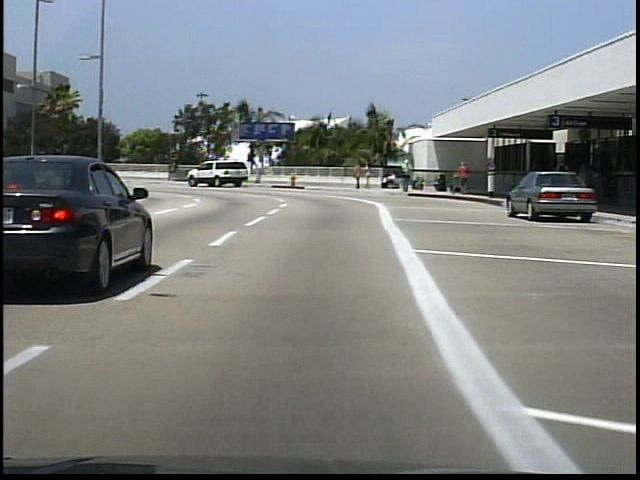person: (552, 153, 575, 209), (458, 160, 473, 194), (403, 158, 415, 197), (354, 163, 365, 192), (364, 161, 374, 192)
